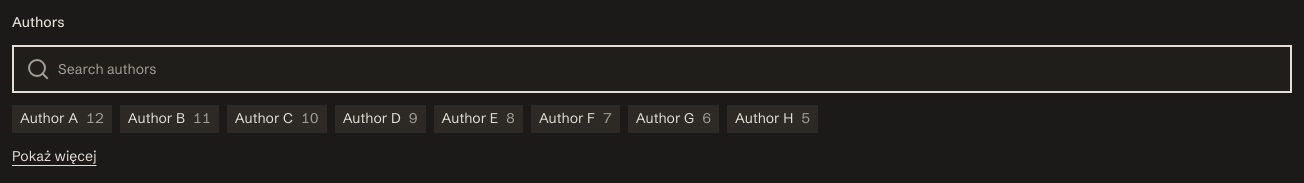
Test: FilterValues › searches in all values, ignoring case and diacritics
Step 1. Type "lukasz" into the search field labelled "Search authors" → (674, 69), box [58,47,1290,91]
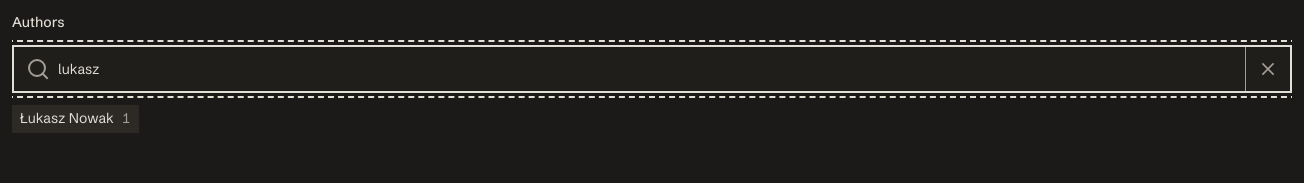
Check: the button "Łukasz Nowak 1" is shown, box [12,105,139,133]
